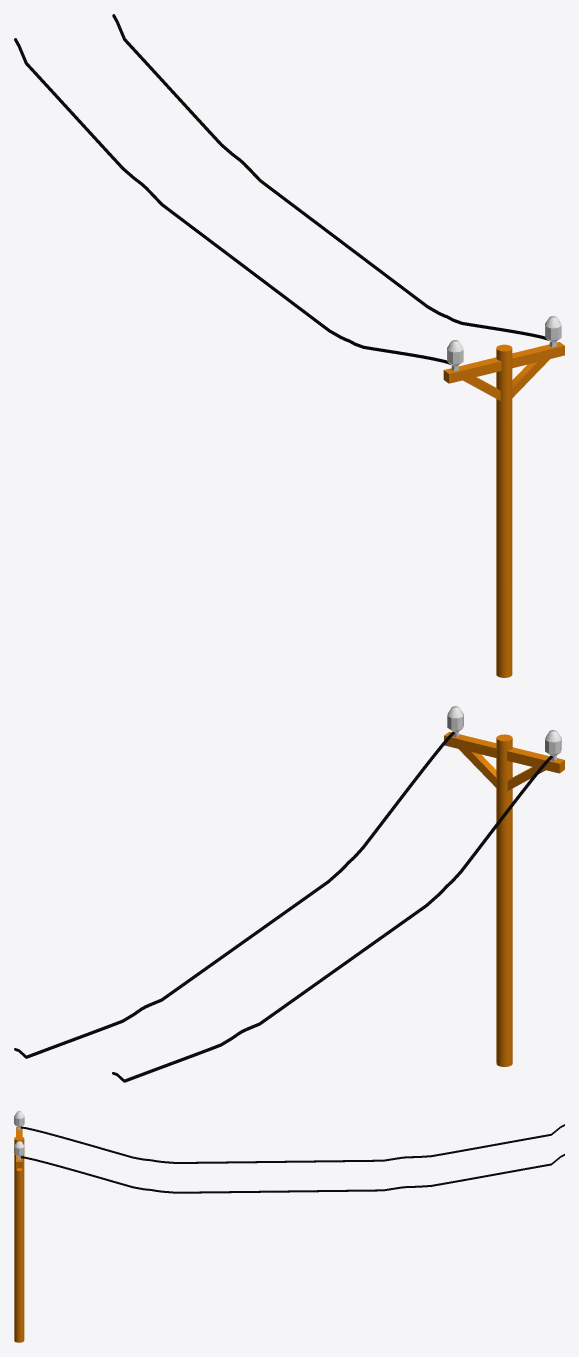
The model's file is poteauelectriqueavecfil.fbx.
3 views of the same model, one above another, from view 1: azimuth 30°, elevation 25°; view 2: azimuth 150°, elevation 25°; view 3: azimuth 270°, elevation 25° (orthographic). The views are drawn at different scales.
Parts seen in each view (by area): view 1: poteauelectriqueavecfil; view 2: poteauelectriqueavecfil; view 3: poteauelectriqueavecfil.
Part boxes in pixels (box(x1,y1,x2,y2)): poteauelectriqueavecfil: box(14, 14, 564, 677); poteauelectriqueavecfil: box(14, 706, 564, 1082); poteauelectriqueavecfil: box(14, 1111, 564, 1342).
Bounding box in the file's own units: 654 × 1856 × 4342.
